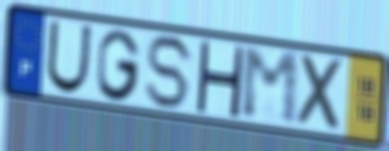G: (95, 27, 144, 103)
H: (193, 38, 247, 121)
M: (239, 45, 301, 128)
S: (144, 32, 197, 112)
U: (44, 18, 94, 96)
X: (296, 51, 347, 135)
